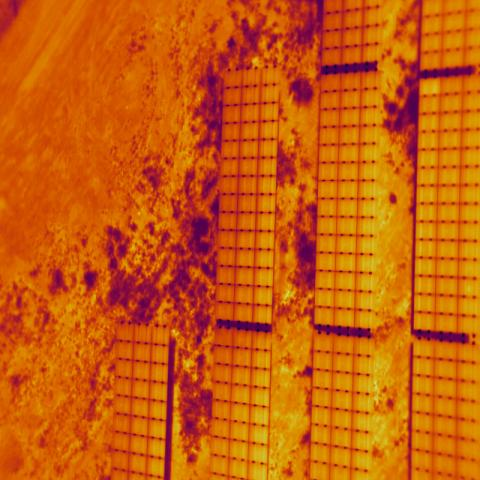fault: (419, 78, 441, 96)
